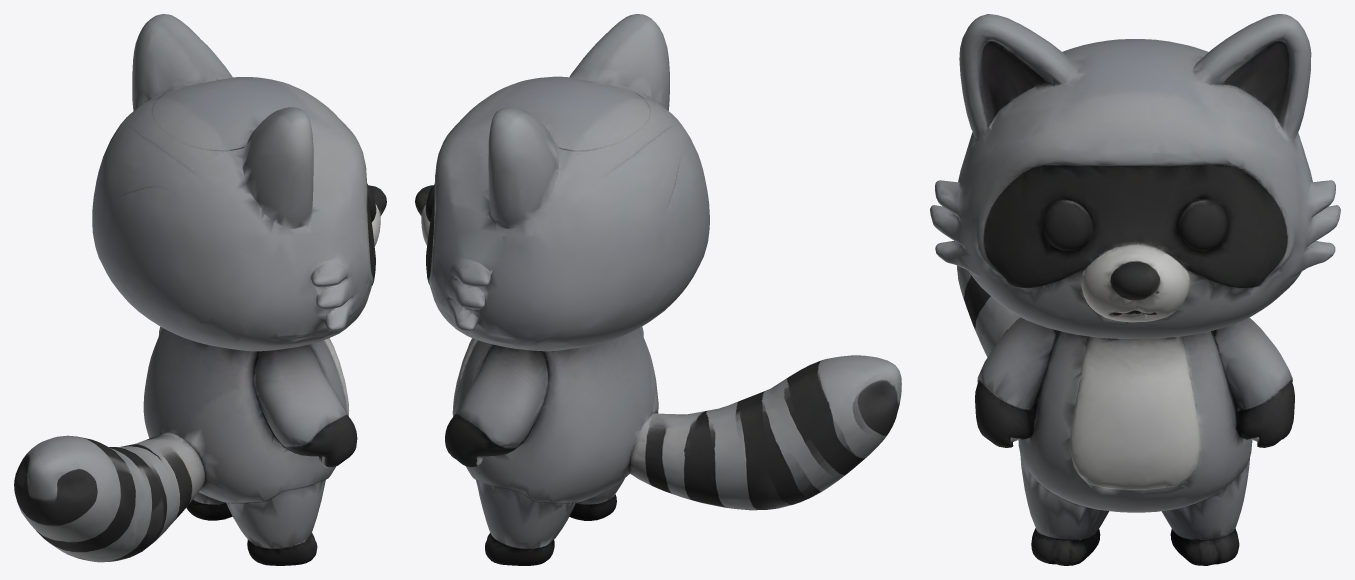
File: raccoon.glb
The picture shows the model from 3 angles, left to right: view 1: azimuth 30°, elevation 25°; view 2: azimuth 150°, elevation 25°; view 3: azimuth 270°, elevation 25°; orthographic projection. The views are drawn at different scales.
Parts seen in each view (by area): view 1: tripo_node_1cc877b5-32f7-4cd3-8bf6-daa4ec927088; view 2: tripo_node_1cc877b5-32f7-4cd3-8bf6-daa4ec927088; view 3: tripo_node_1cc877b5-32f7-4cd3-8bf6-daa4ec927088.
Boxes of the visible parts, left/top/right/bottom form: tripo_node_1cc877b5-32f7-4cd3-8bf6-daa4ec927088: left=14, top=14, right=386, bottom=565; tripo_node_1cc877b5-32f7-4cd3-8bf6-daa4ec927088: left=415, top=14, right=901, bottom=565; tripo_node_1cc877b5-32f7-4cd3-8bf6-daa4ec927088: left=930, top=14, right=1340, bottom=565.
Bounding box in the file's own units: 0.9186 × 0.9998 × 0.7069.
Materials: 1 (1 with a texture image).
